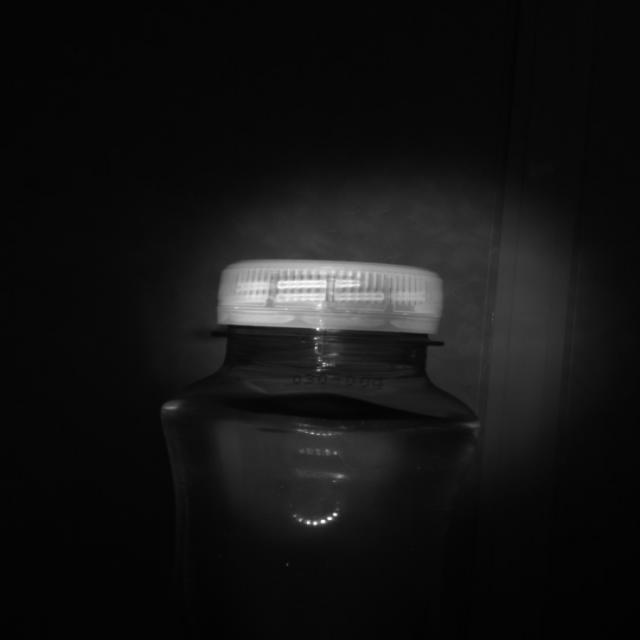Good: (210, 254, 456, 339)
